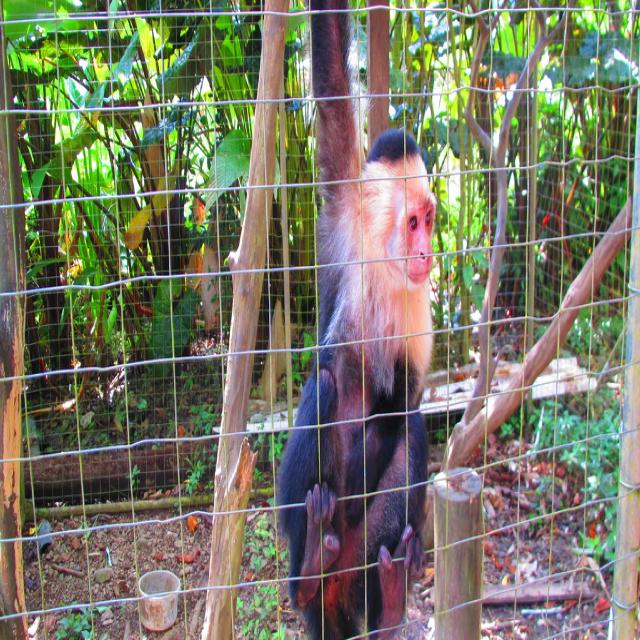Monkey: (273, 0, 436, 639)
